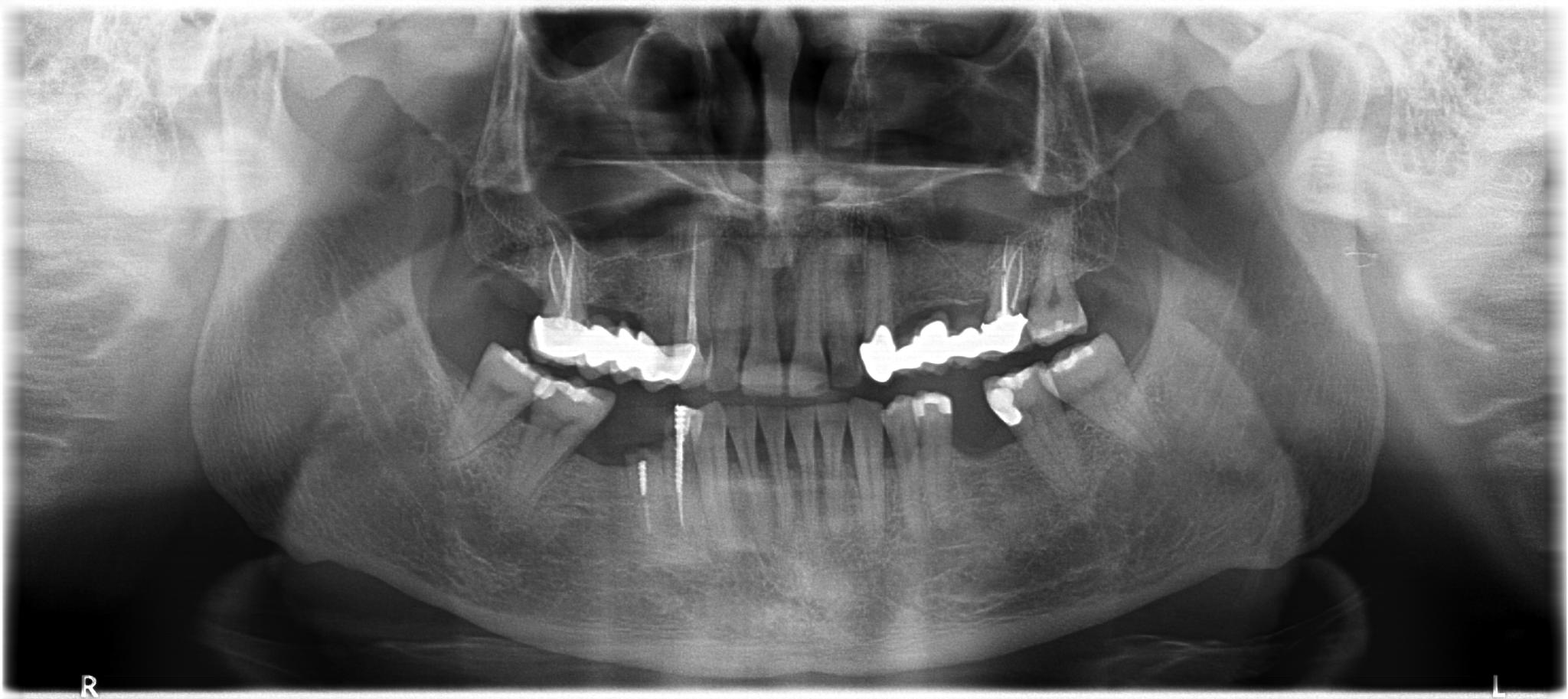Premolars: (543, 272, 1568, 699), (308, 280, 983, 699)
